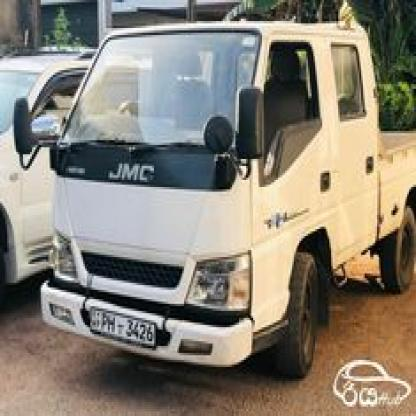Lorry front: (12, 0, 416, 395)
number plate: (90, 306, 157, 350)
